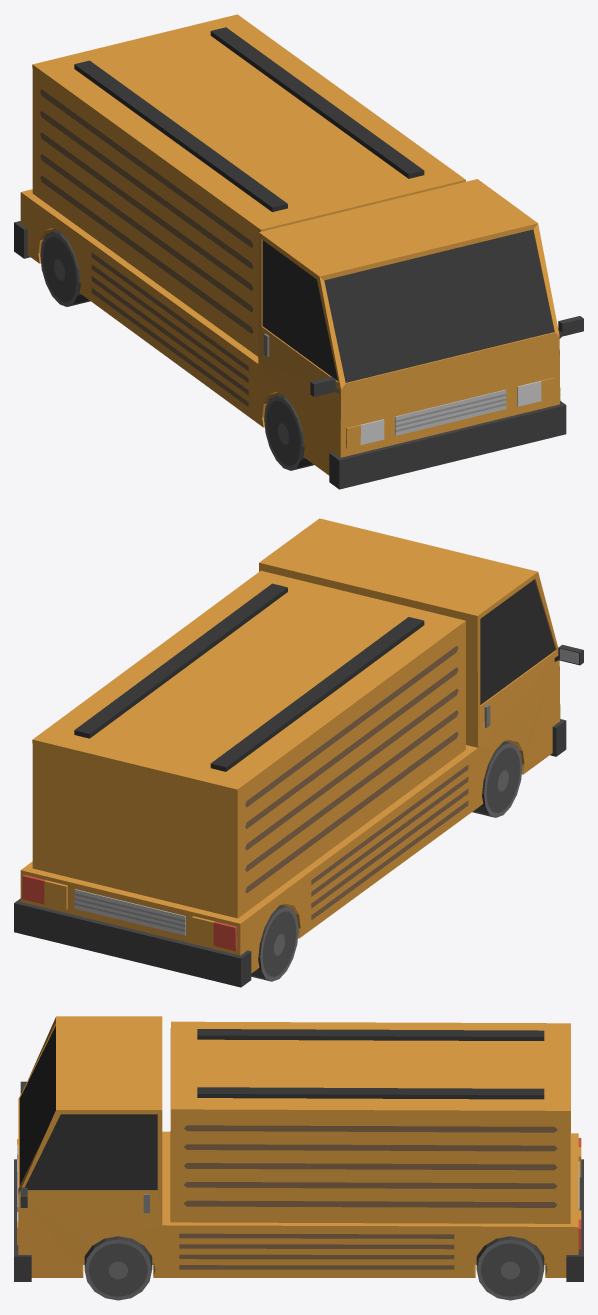
File: truck02_colo03.fbx
The picture shows the model from 3 angles, top to bottom: view 1: azimuth 30°, elevation 25°; view 2: azimuth 150°, elevation 25°; view 3: azimuth 270°, elevation 25°; orthographic projection. The views are drawn at different scales.
Parts seen in each view (by area): view 1: Cube.439, Cube.442, Cube.443; view 2: Cube.439, Cube.442, Cube.443; view 3: Cube.439, Cube.440, Cube.441.
Part boxes in pixels (left/top/right/bottom): Cube.439: left=14, top=14, right=583, bottom=489; Cube.442: left=40, top=230, right=90, bottom=306; Cube.443: left=264, top=394, right=313, bottom=470; Cube.439: left=14, top=518, right=583, bottom=987; Cube.442: left=251, top=905, right=298, bottom=981; Cube.443: left=472, top=741, right=522, bottom=817; Cube.439: left=14, top=1016, right=583, bottom=1281; Cube.440: left=476, top=1236, right=544, bottom=1300; Cube.441: left=84, top=1236, right=152, bottom=1300.
Bounding box in the file's own units: 351 × 273 × 734.
